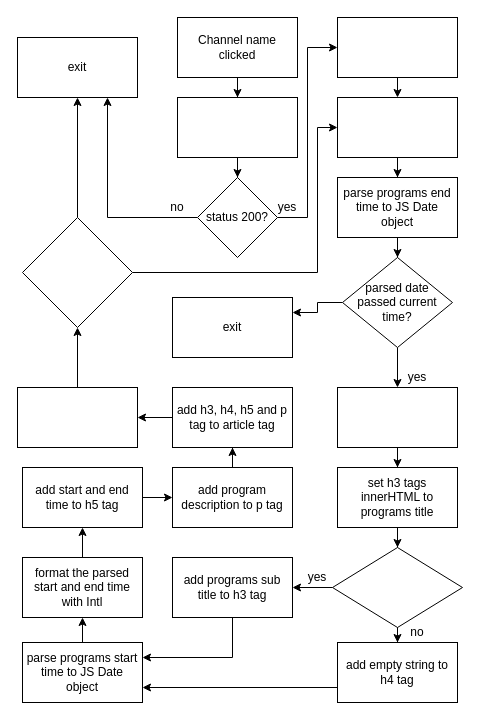
Image size: 480x720. Some labels were removed from this diagram. The box of each missing label's shape, as (x1, y1, x2, y2) in pixels:
add article tag to div with id info: (16, 386, 138, 448)
create article, h3, h4, h5 and p tag: (336, 386, 458, 448)
iterate over channel programs: (336, 96, 458, 158)
more channel programs?: (22, 216, 132, 328)
program have sub title?: (332, 546, 462, 628)
request SR API with channel program with id found on event.target: (176, 96, 298, 158)
set div with id info innerHTML to empty string: (336, 16, 458, 78)
